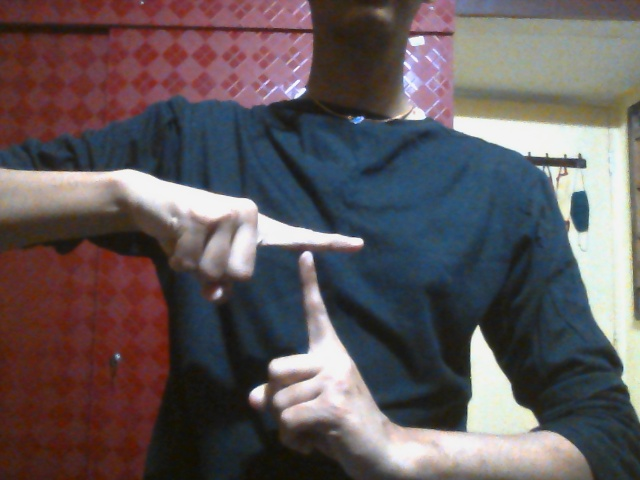T: (161, 195, 364, 464)
